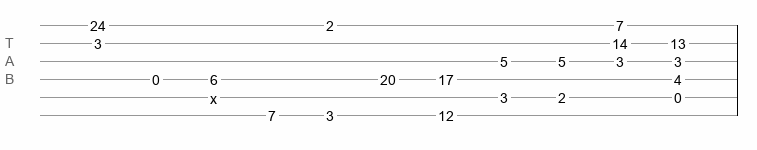0: (152, 72, 160, 82), (674, 90, 682, 100)
12: (438, 108, 454, 118)
13: (670, 36, 686, 46)
14: (612, 36, 628, 46)
17: (438, 72, 454, 82)
2: (326, 18, 334, 28), (558, 90, 566, 100)
20: (380, 72, 396, 82)
24: (90, 18, 106, 28)
3: (94, 36, 102, 46), (326, 108, 334, 118), (500, 90, 508, 100), (616, 54, 624, 64), (674, 54, 682, 64)
4: (674, 72, 682, 82)
5: (500, 54, 508, 64), (558, 54, 566, 64)
6: (210, 72, 218, 82)
7: (268, 108, 276, 118), (616, 18, 624, 28)
x: (210, 91, 217, 99)
